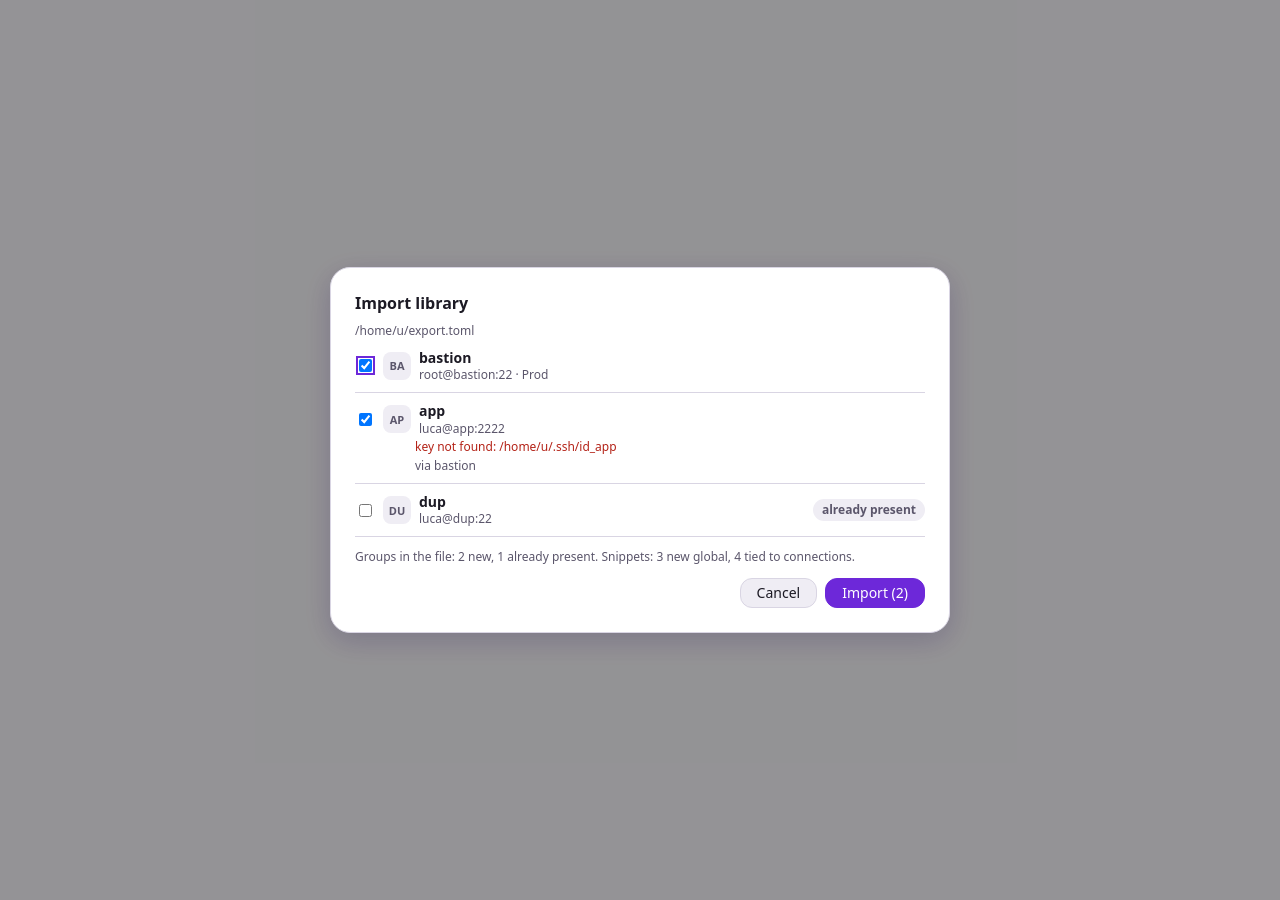
Test case: a failed import shows the reason and stays open
Step 1. Click the button "Import (2)" → (875,593), box [825,578,925,608]
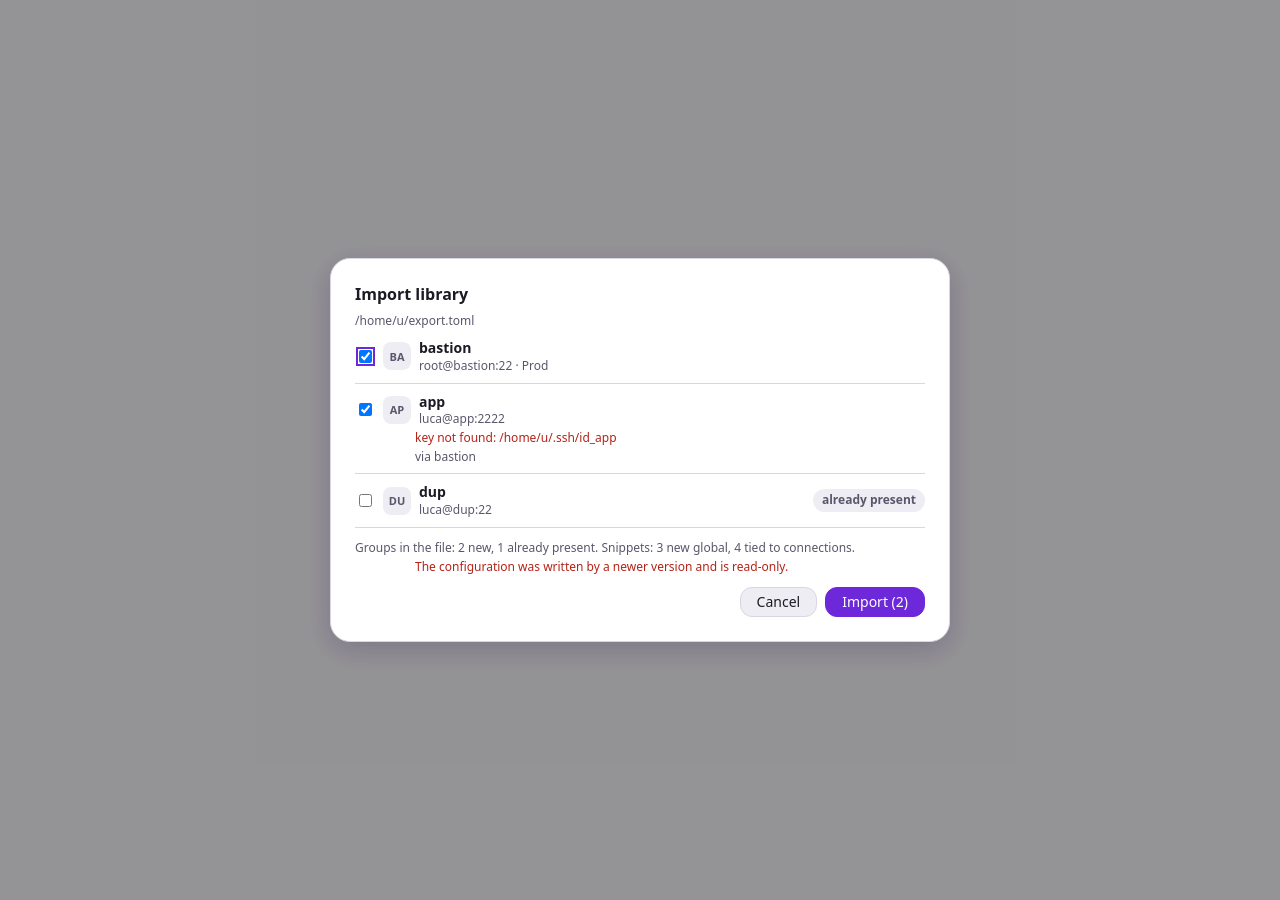
Result: the text "The configuration was written by a newer version and is read-only." is shown at [415,558,788,575]
